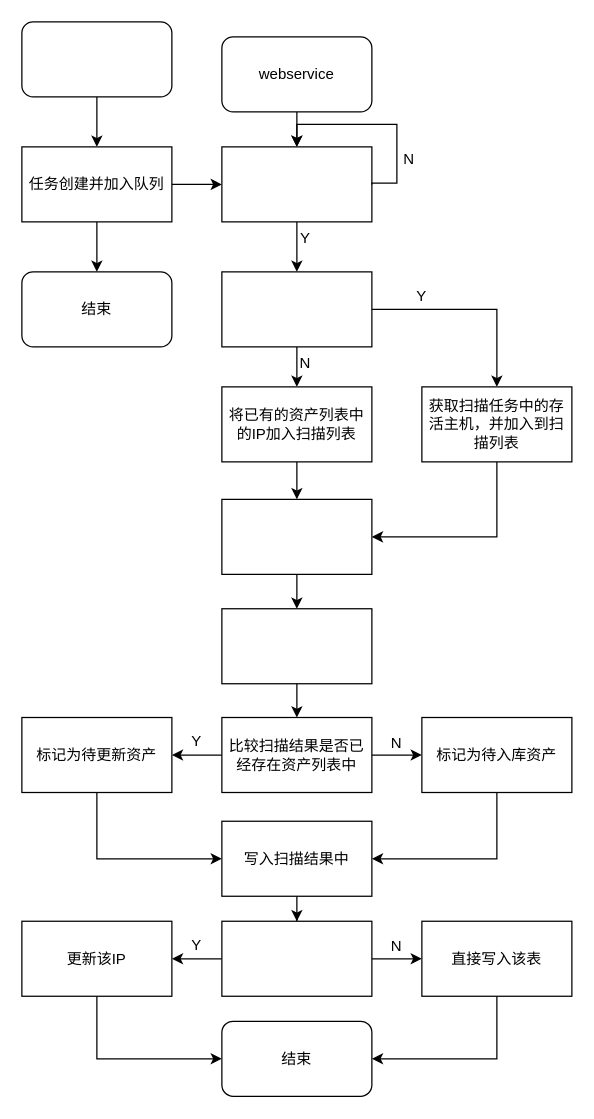
Image size: 594x1119. Some labels were removed from this diagram. Each missing label, with the centre of its shape:
"同步到主动探测扫描总表中，并判断总表中是否存在" belongs at [296,958].
"屏蔽忽略列表中的IP地址" belongs at [296,536].
"开始，UI界面上创建主动探测任务" belongs at [96,59].
"当前没有任务在运行" belongs at [296,184].
"获取到任务参数，并判断是否为资产探测" belongs at [296,309].
"针对扫描列表中的每个主机创建nmap扫描任务" belongs at [296,646].
